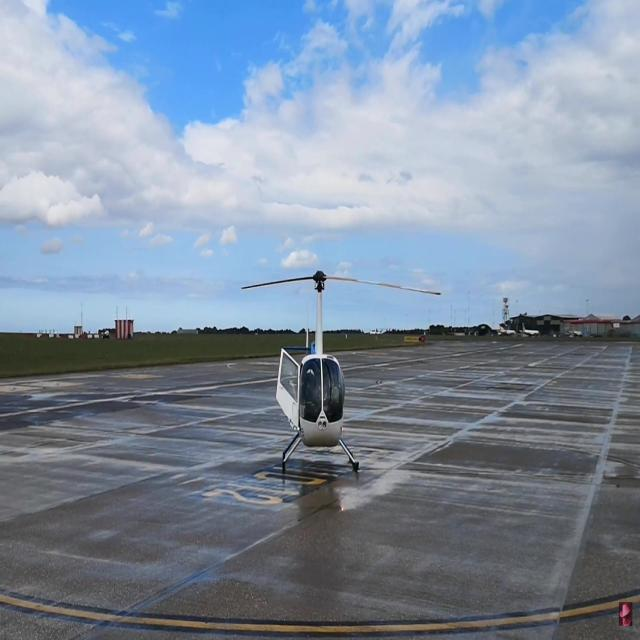CIV_HELO: (274, 268, 360, 476)
